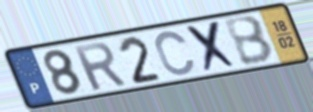2: (117, 34, 164, 86)
8: (42, 48, 84, 97)
B: (222, 14, 277, 68)
C: (153, 29, 197, 77)
R: (70, 39, 129, 93)
X: (183, 19, 241, 75)
